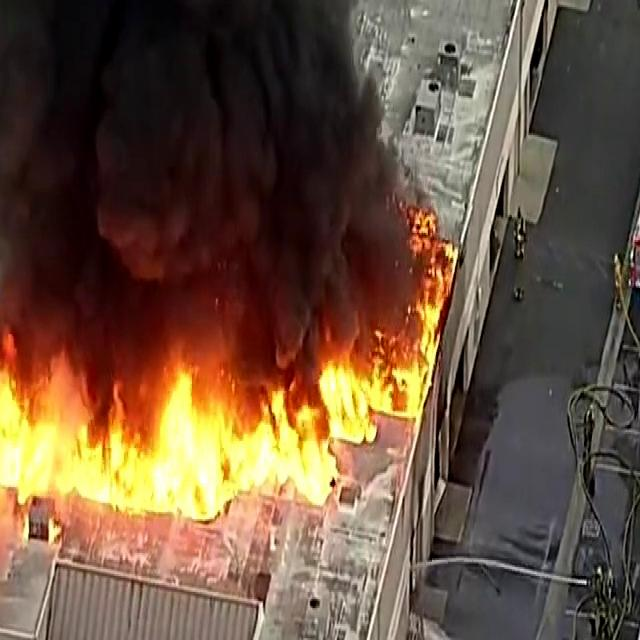fire: (0, 347, 336, 492), (217, 344, 372, 498), (0, 343, 134, 507), (103, 371, 244, 517), (391, 223, 454, 389)
smoke: (117, 0, 347, 254), (0, 0, 99, 329)
